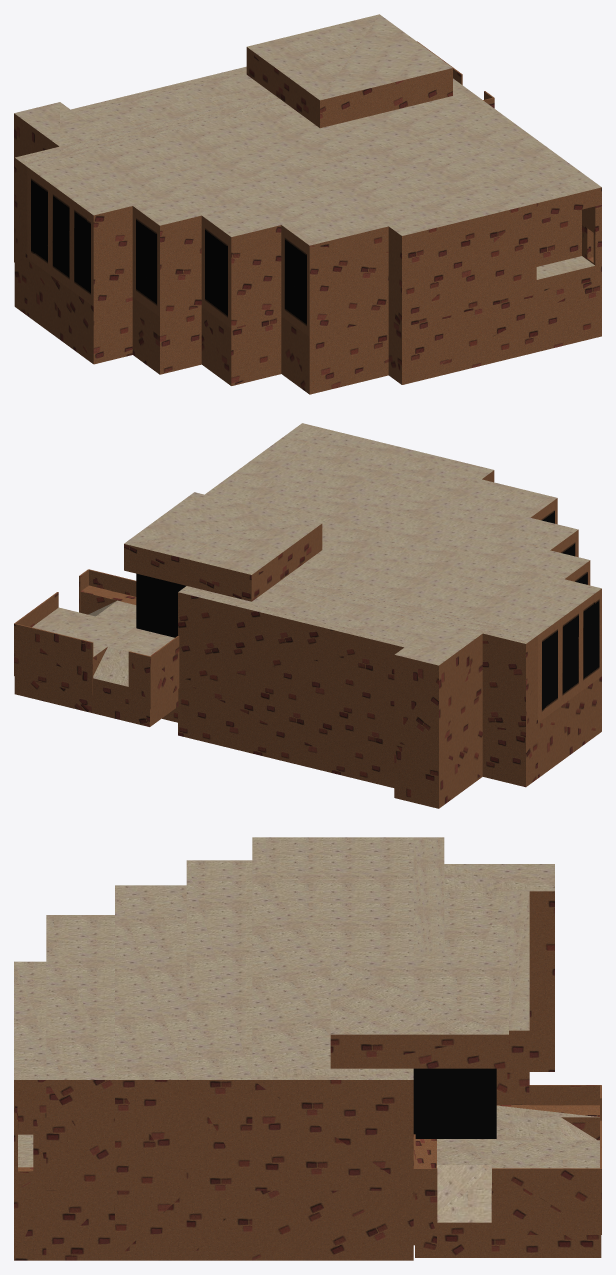
Rendered from library.obj.
The picture shows the model from 3 angles, top to bottom: view 1: azimuth 30°, elevation 25°; view 2: azimuth 150°, elevation 25°; view 3: azimuth 270°, elevation 25°; orthographic projection. The views are drawn at different scales.
Parts seen in each view (by area): view 1: No_Name; view 2: No_Name; view 3: No_Name.
Boxes of the visible parts, x1,y1,x2,y2 form: No_Name: [14, 14, 601, 394]; No_Name: [14, 423, 601, 808]; No_Name: [14, 837, 601, 1260].
Size of the model in its own units: 39.87 by 14.44 by 35.79.
